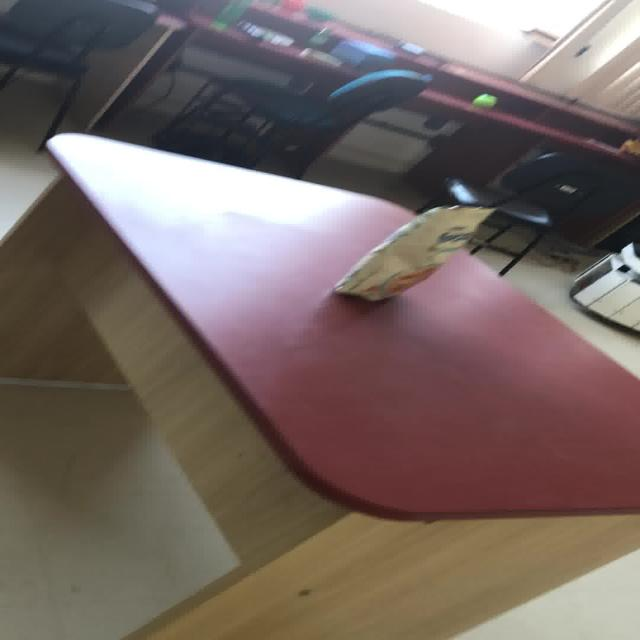corn flakes: (330, 202, 497, 302)
